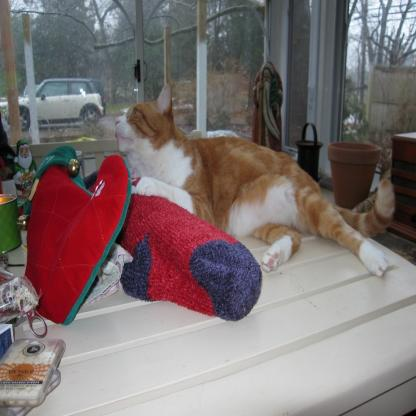Car: (1, 81, 105, 134)
